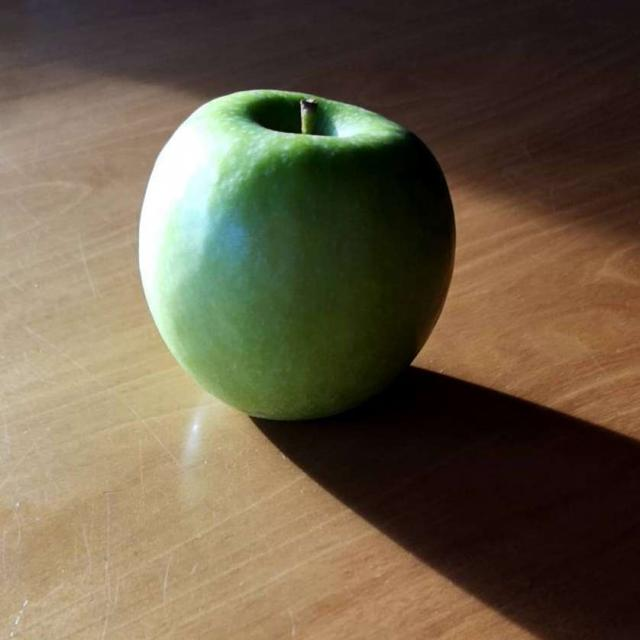apple: (145, 97, 444, 417)
